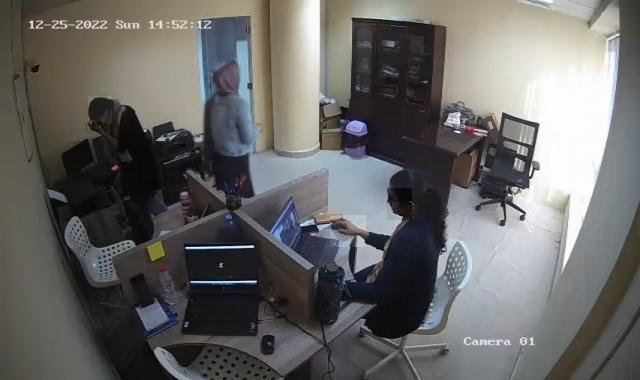no_apron: (331, 215, 367, 248), (86, 122, 103, 134)
no_gloves: (387, 170, 425, 220), (213, 61, 240, 92), (88, 96, 112, 124)
no_hairnet: (387, 189, 412, 221)
